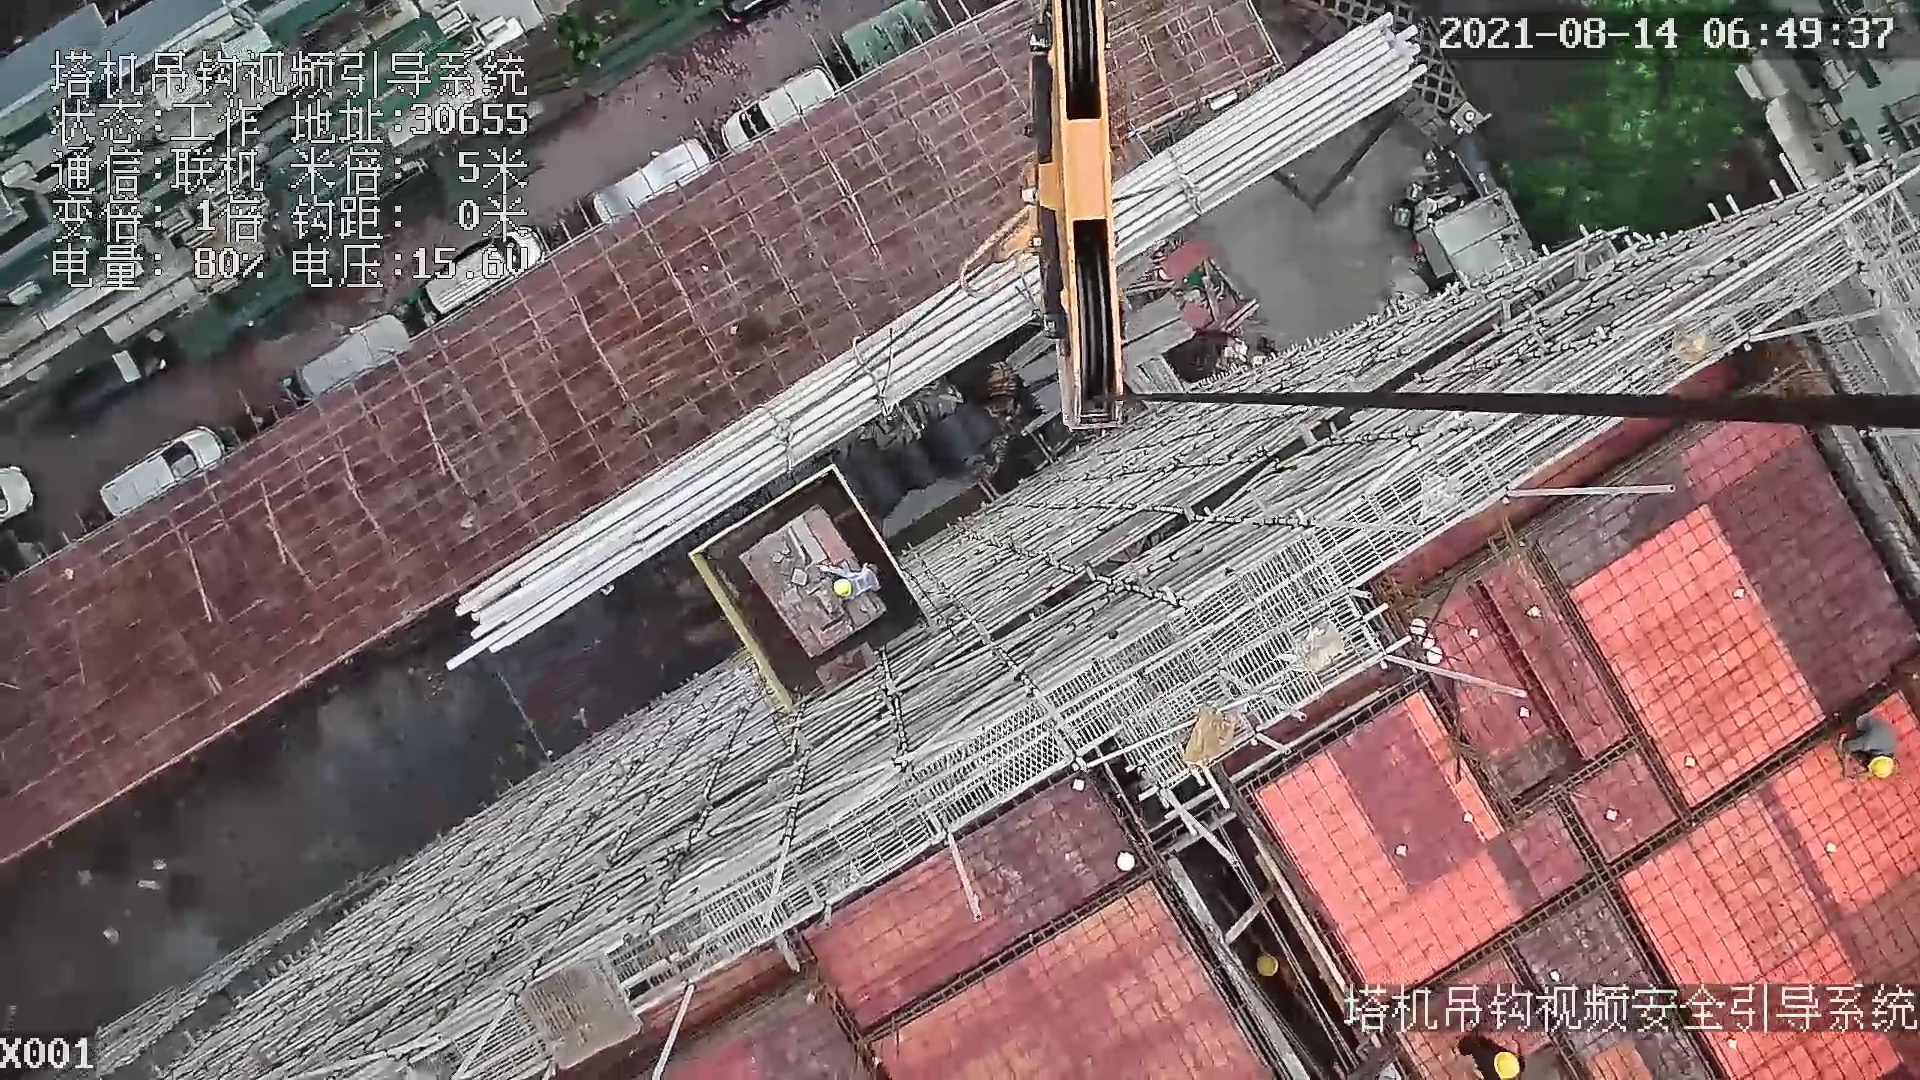helmet: (1491, 1039, 1528, 1080), (1251, 948, 1287, 981), (1865, 745, 1893, 784), (828, 577, 858, 605)
hook: (967, 1, 1126, 433)
person: (1828, 699, 1901, 791), (806, 554, 895, 615)
